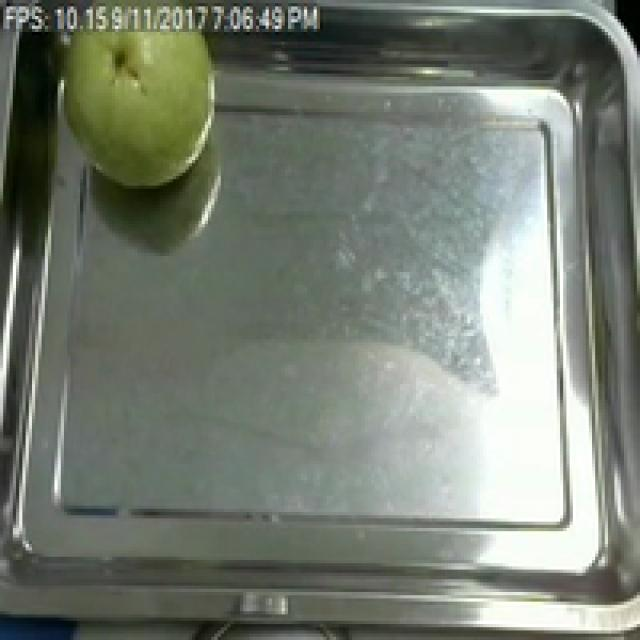Fruit: (47, 0, 230, 198)
